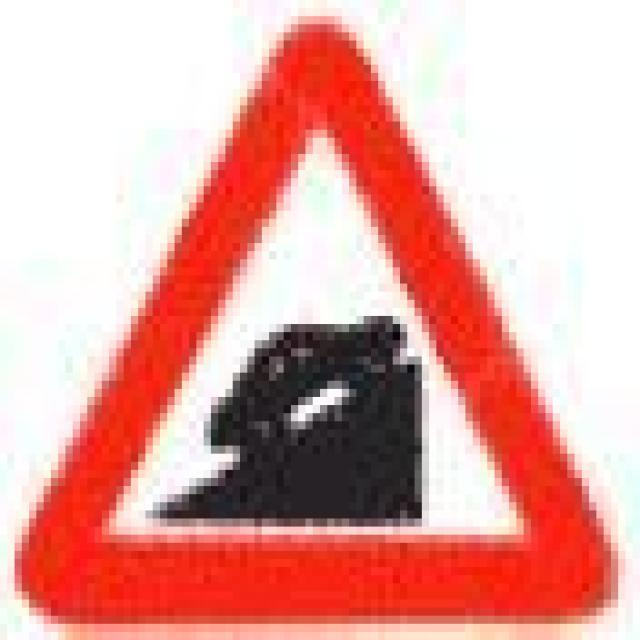steep ascent: (26, 20, 613, 615)
